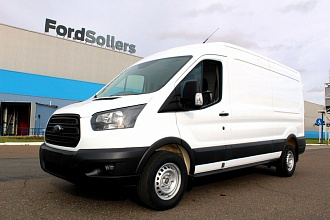van: (40, 41, 306, 211)
